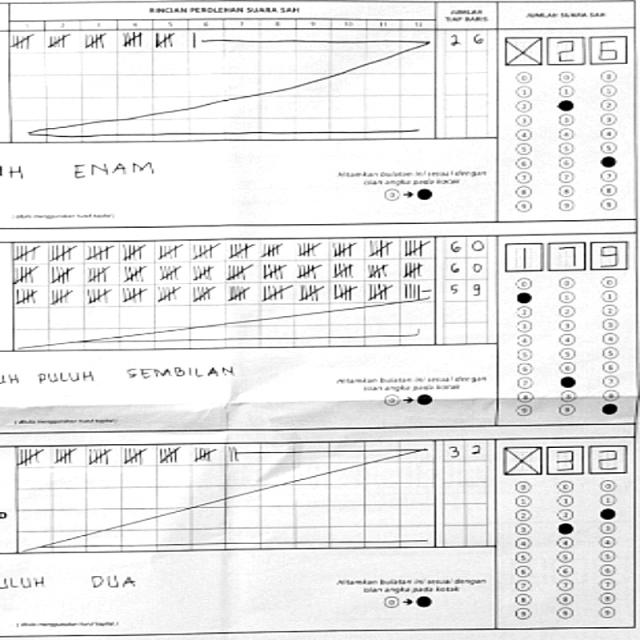Suara: (498, 439, 630, 475), (500, 29, 628, 65), (501, 238, 628, 271)
